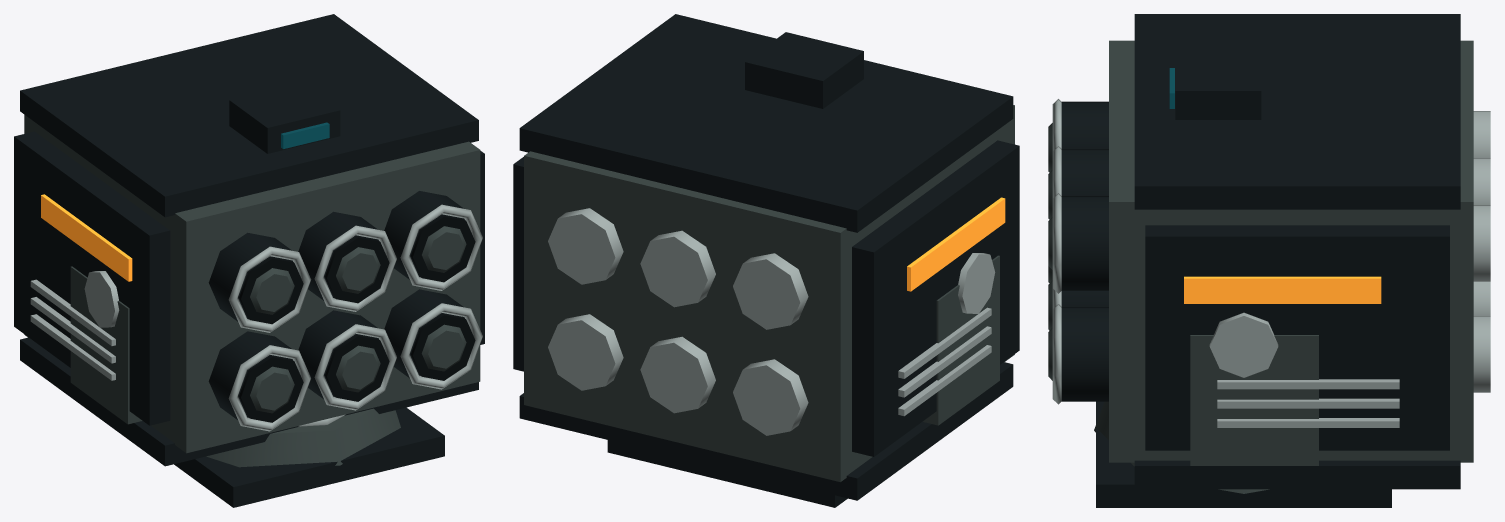
File: missile-pod-lod3.glb
3 views of the same model, side by side, from view 1: azimuth 30°, elevation 25°; view 2: azimuth 150°, elevation 25°; view 3: azimuth 270°, elevation 25° (orthographic). The views are drawn at different scales.
Visible parts, largest first — view 1: pod-housing__Recessed_carbon_mechanism, pod-housing__Cerakote_graphite_armor, side-armor__Recessed_carbon_mechanism, launch-cells__Recessed_carbon_mechanism, cell-rims__Machined_titanium, cell-interiors__Vibration_isolator, cell-safety-caps__Cerakote_graphite_armor, mount__Recessed_carbon_mechanism, mount__Cerakote_graphite_armor, sensor__Recessed_carbon_mechanism, cradle__Cerakote_graphite_armor, cooling-fins__Machined_titanium (+3 smaller); view 2: pod-housing__Recessed_carbon_mechanism, pod-housing__Cerakote_graphite_armor, side-armor__Recessed_carbon_mechanism, rear-caps__Machined_titanium, sensor__Recessed_carbon_mechanism, cradle__Cerakote_graphite_armor, cooling-fins__Machined_titanium, mount__Recessed_carbon_mechanism, identification__Amber_safety_identification, trunnion__Machined_titanium; view 3: pod-housing__Recessed_carbon_mechanism, side-armor__Recessed_carbon_mechanism, pod-housing__Cerakote_graphite_armor, launch-cells__Recessed_carbon_mechanism, cradle__Cerakote_graphite_armor, mount__Recessed_carbon_mechanism, sensor__Recessed_carbon_mechanism, cooling-fins__Machined_titanium, identification__Amber_safety_identification, rear-caps__Machined_titanium, trunnion__Machined_titanium, cell-rims__Machined_titanium (+2 smaller).
Boxes of the visible parts, x1=… form: pod-housing__Recessed_carbon_mechanism: x1=20, y1=14, x2=478, y2=466; pod-housing__Cerakote_graphite_armor: x1=24, y1=115, x2=480, y2=453; side-armor__Recessed_carbon_mechanism: x1=14, y1=131, x2=484, y2=425; launch-cells__Recessed_carbon_mechanism: x1=208, y1=191, x2=464, y2=420; cell-rims__Machined_titanium: x1=228, y1=204, x2=482, y2=431; cell-interiors__Vibration_isolator: x1=239, y1=215, x2=475, y2=422; cell-safety-caps__Cerakote_graphite_armor: x1=250, y1=226, x2=466, y2=413; mount__Recessed_carbon_mechanism: x1=174, y1=407, x2=444, y2=507; mount__Cerakote_graphite_armor: x1=206, y1=408, x2=400, y2=467; sensor__Recessed_carbon_mechanism: x1=229, y1=82, x2=340, y2=153; cradle__Cerakote_graphite_armor: x1=70, y1=266, x2=142, y2=424; cooling-fins__Machined_titanium: x1=30, y1=279, x2=115, y2=380; pod-housing__Recessed_carbon_mechanism: x1=519, y1=14, x2=1013, y2=500; pod-housing__Cerakote_graphite_armor: x1=524, y1=105, x2=1014, y2=482; side-armor__Recessed_carbon_mechanism: x1=513, y1=140, x2=1019, y2=456; rear-caps__Machined_titanium: x1=548, y1=208, x2=808, y2=435; sensor__Recessed_carbon_mechanism: x1=745, y1=32, x2=863, y2=108; cradle__Cerakote_graphite_armor: x1=922, y1=255, x2=999, y2=425; cooling-fins__Machined_titanium: x1=898, y1=307, x2=991, y2=416; mount__Recessed_carbon_mechanism: x1=607, y1=440, x2=847, y2=507; identification__Amber_safety_identification: x1=907, y1=197, x2=1005, y2=291; trunnion__Machined_titanium: x1=958, y1=253, x2=995, y2=313; pod-housing__Recessed_carbon_mechanism: x1=1134, y1=14, x2=1460, y2=489; side-armor__Recessed_carbon_mechanism: x1=1145, y1=225, x2=1449, y2=450; pod-housing__Cerakote_graphite_armor: x1=1109, y1=40, x2=1473, y2=462; launch-cells__Recessed_carbon_mechanism: x1=1061, y1=101, x2=1108, y2=401; cradle__Cerakote_graphite_armor: x1=1190, y1=335, x2=1318, y2=465; mount__Recessed_carbon_mechanism: x1=1096, y1=401, x2=1391, y2=507; sensor__Recessed_carbon_mechanism: x1=1175, y1=51, x2=1261, y2=119; cooling-fins__Machined_titanium: x1=1217, y1=379, x2=1399, y2=427; identification__Amber_safety_identification: x1=1184, y1=276, x2=1381, y2=303; rear-caps__Machined_titanium: x1=1473, y1=111, x2=1490, y2=392; trunnion__Machined_titanium: x1=1209, y1=312, x2=1278, y2=377; cell-rims__Machined_titanium: x1=1052, y1=99, x2=1061, y2=404.
Size of the model in its own units: 2.1 by 1.95 by 2.06.
